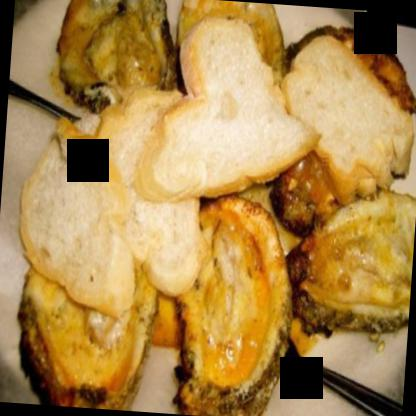bread: (132, 14, 324, 212), (87, 92, 217, 298), (13, 118, 144, 314)
